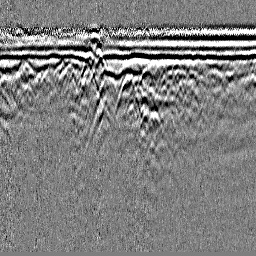cavity: (113, 69, 141, 119)
